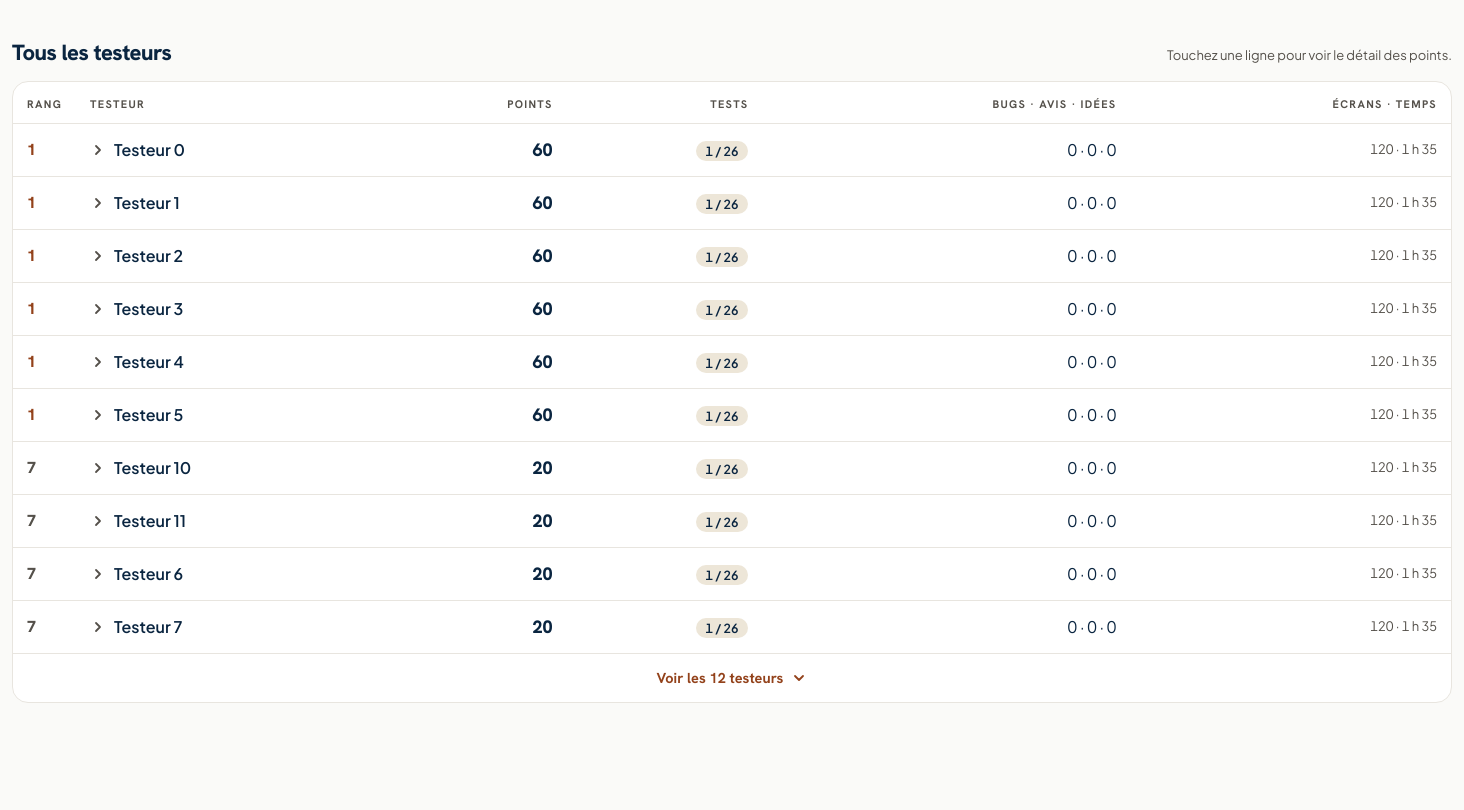
Scenario: ContestTable › n’affiche que les 10 premiers et déplie le reste sur demande
Click the button with test id "board-more" at (732, 678), box [13,654,1451,702]
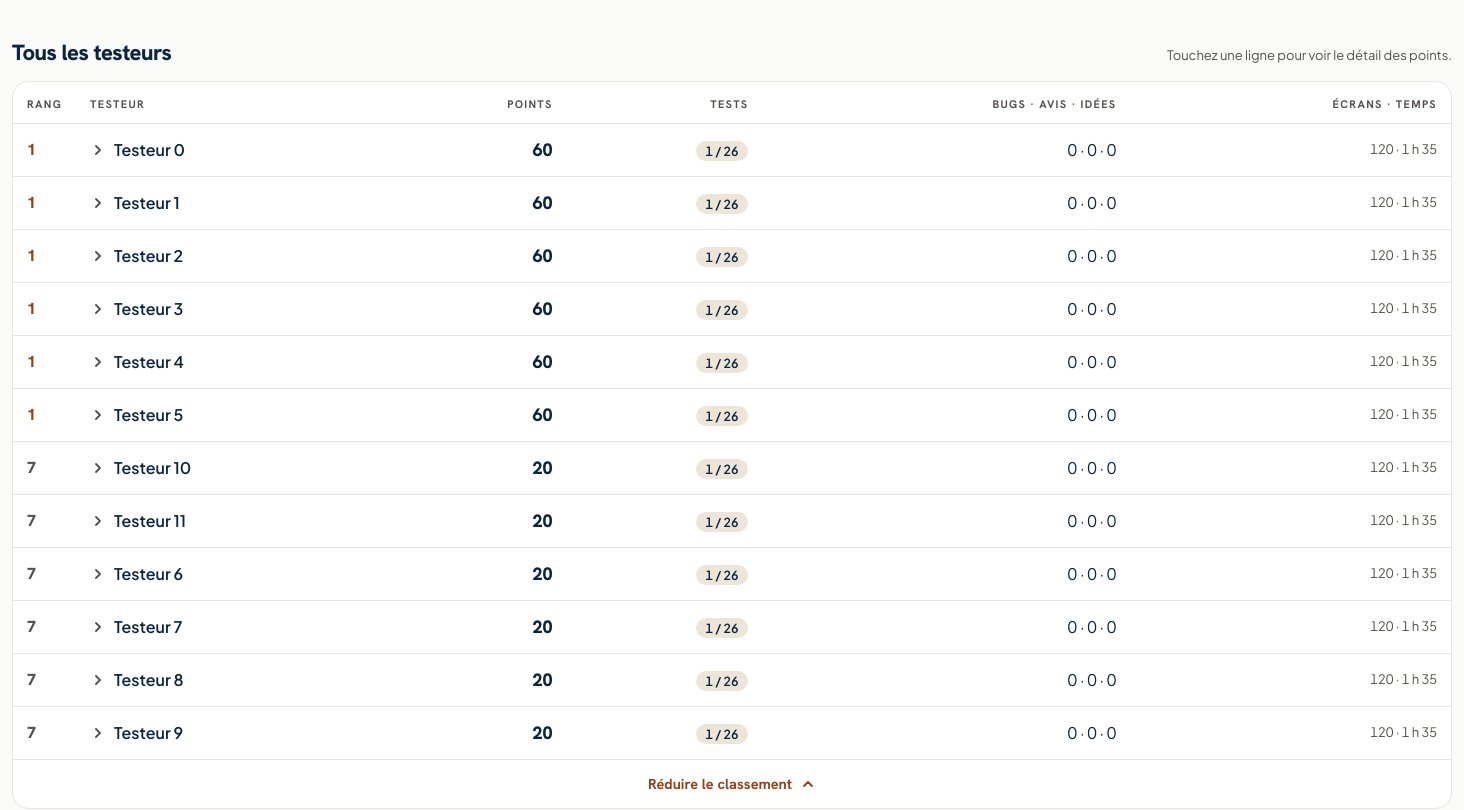
Now the button with test id "board-more" shows "Réduire", box [13,760,1451,808]
Now the button with test id "board-more" is expanded, box [13,760,1451,808]
